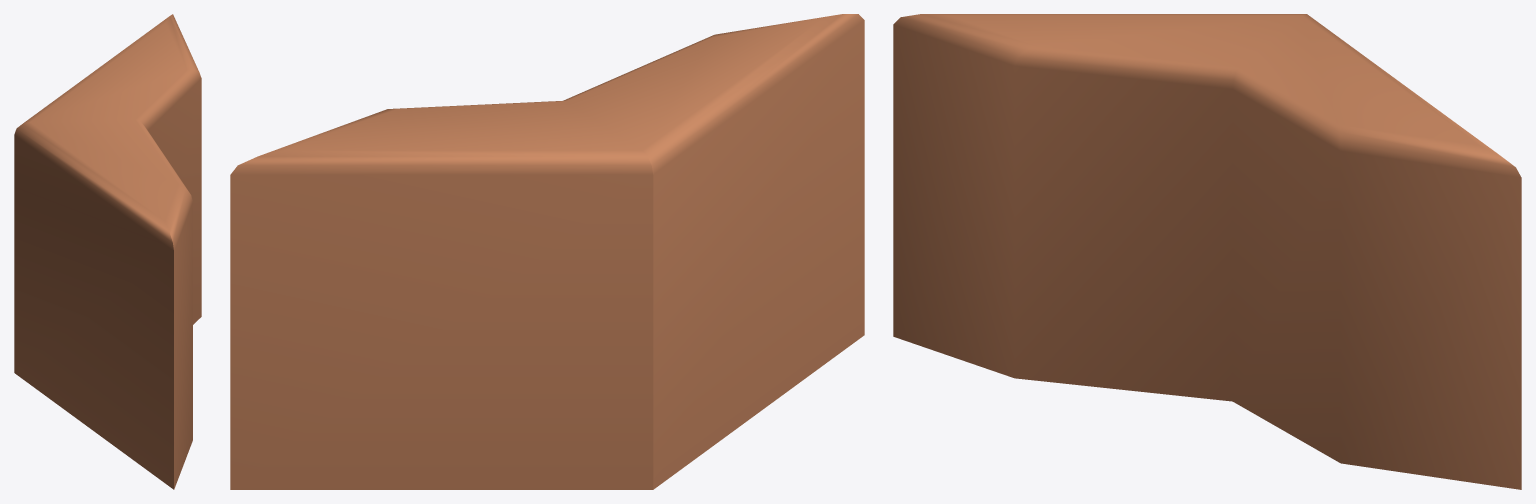
File: hex_rock_waterA_empty.glb
3 views of the same model, side by side, from view 1: azimuth 30°, elevation 25°; view 2: azimuth 150°, elevation 25°; view 3: azimuth 270°, elevation 25° (orthographic). The views are drawn at different scales.
Parts seen in each view (by area): view 1: hex_rock_waterA_empty; view 2: hex_rock_waterA_empty; view 3: hex_rock_waterA_empty.
Part boxes in pixels (x1=…): hex_rock_waterA_empty: x1=14, y1=14, x2=201, y2=489; hex_rock_waterA_empty: x1=230, y1=14, x2=864, y2=489; hex_rock_waterA_empty: x1=893, y1=14, x2=1521, y2=489.
Bounding box in the file's own units: 1.91 × 1.91 × 3.3.
